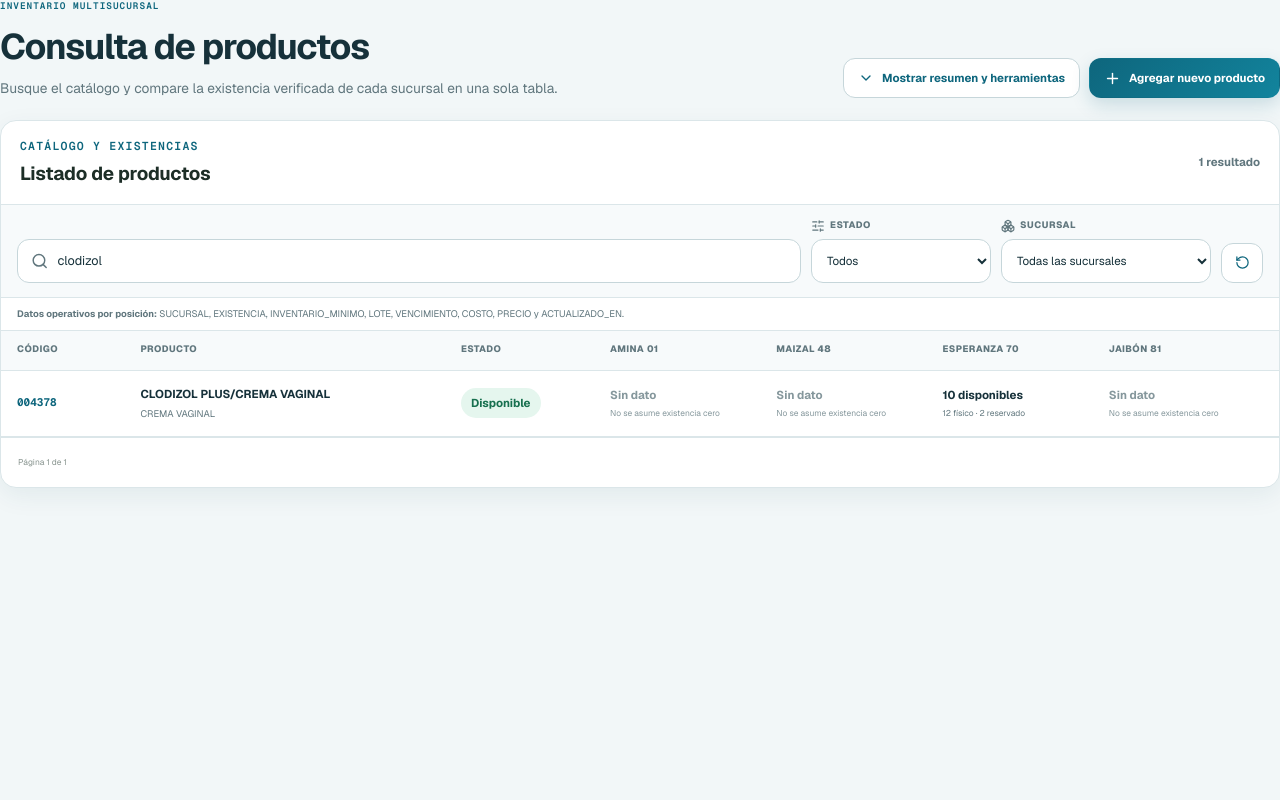
Test: InventoryWorkspace › shows the imported catalog without claiming branch availability
Expected: the heading "Consulta de productos" is shown, [0,22,369,68]
Expected: the text "Productos cargados" is not shown
Click the button "Mostrar resumen y herramientas" at (961, 78), box [843,58,1080,98]
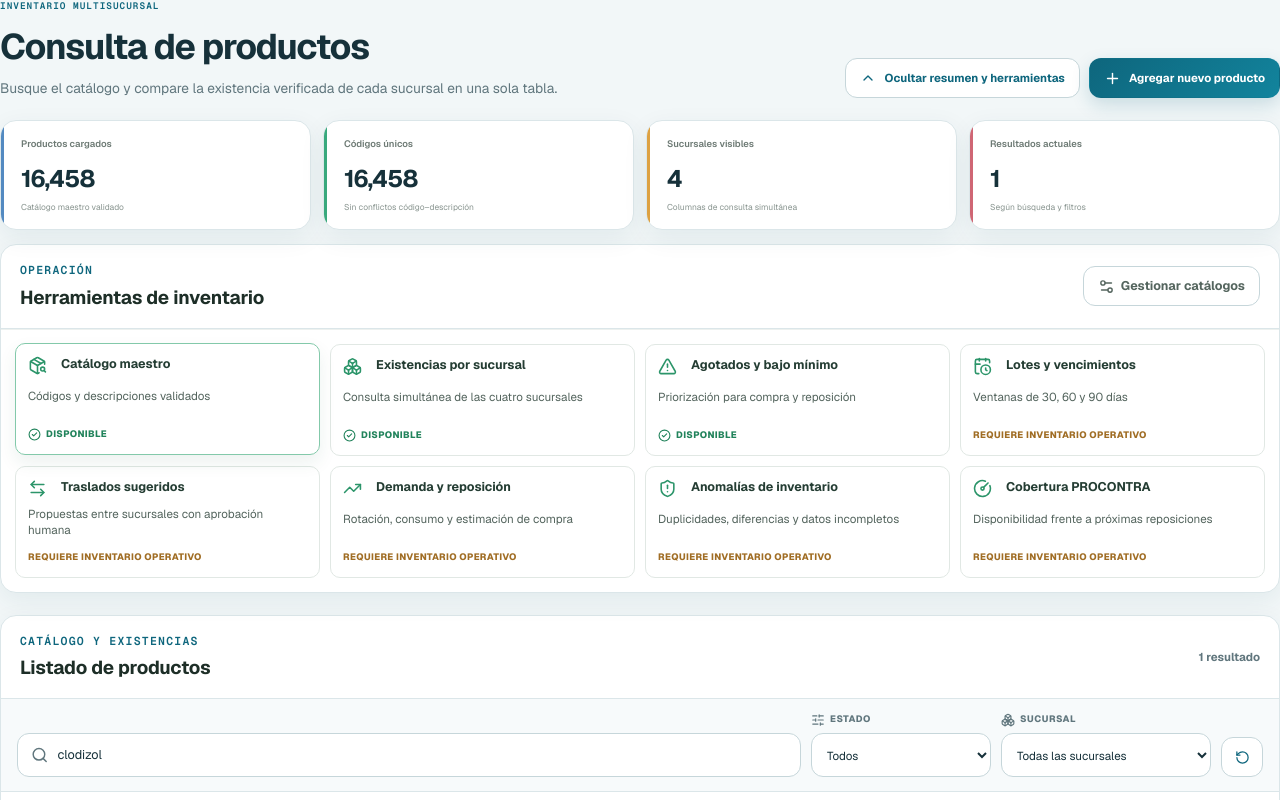
Expected: the button "Gestionar catálogos" is shown, [1083,266,1260,306]
Expected: the text "Productos cargados" is shown, [21,138,112,150]
Expected: the text "16,458" below "Productos cargados" is shown, [21,162,94,194]
